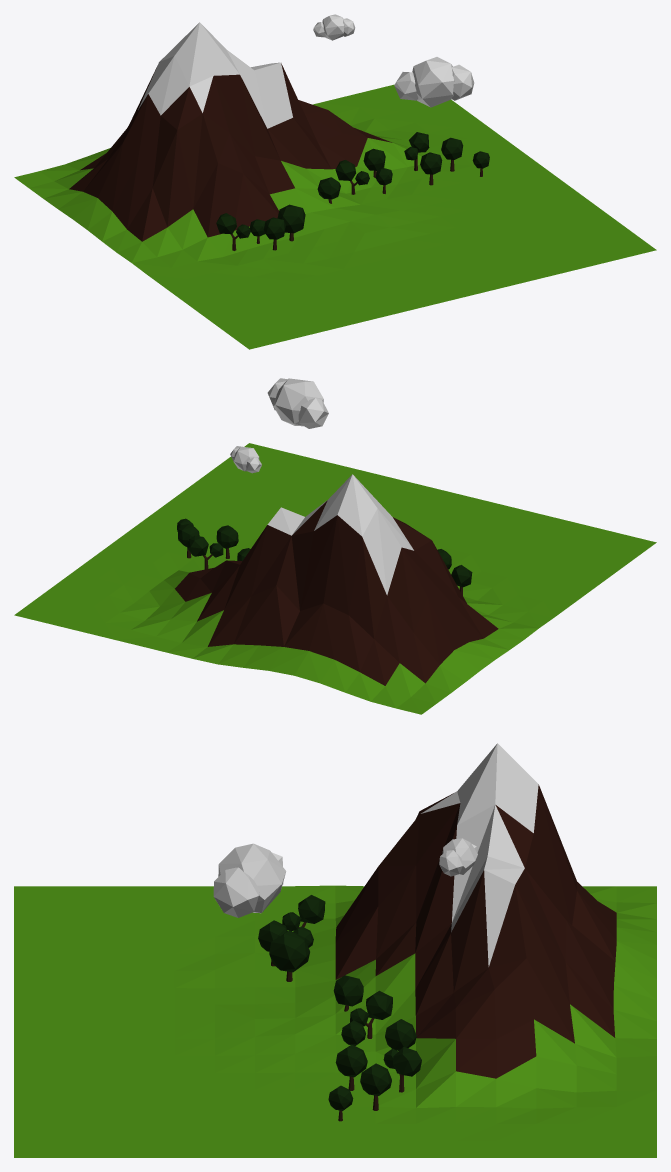
File: mountain_tutorial.obj
3 renders of one model, top to bottom at view 1: azimuth 30°, elevation 25°; view 2: azimuth 150°, elevation 25°; view 3: azimuth 270°, elevation 25°, orthographic. The views are drawn at different scales.
Parts seen in each view (by area): view 1: Plane_Plane.001, Icosphere.001_Icosphere.003, Icosphere.009_Icosphere.011, Icosphere.003_Icosphere.005, Cylinder.002_Cylinder.004, Cylinder.001_Cylinder.003, Cylinder_Cylinder.002; view 2: Plane_Plane.001, Icosphere.001_Icosphere.003, Icosphere.009_Icosphere.011, Cylinder_Cylinder.002; view 3: Plane_Plane.001, Icosphere.001_Icosphere.003, Icosphere.003_Icosphere.005, Icosphere.009_Icosphere.011, Cylinder.001_Cylinder.003, Cylinder.002_Cylinder.004, Cylinder_Cylinder.002, Icosphere, Icosphere.004_Icosphere.006, Icosphere.007_Icosphere.009, Icosphere.002_Icosphere.004.
Part boxes in pixels (x1,y1,x2,y2): Plane_Plane.001: (14, 22, 656, 349); Icosphere.001_Icosphere.003: (394, 57, 474, 107); Icosphere.009_Icosphere.011: (313, 14, 355, 40); Icosphere.003_Icosphere.005: (277, 204, 305, 241); Cylinder.002_Cylinder.004: (216, 213, 250, 250); Cylinder.001_Cylinder.003: (335, 160, 369, 194); Cylinder_Cylinder.002: (404, 132, 429, 170); Plane_Plane.001: (14, 443, 656, 714); Icosphere.001_Icosphere.003: (267, 378, 328, 428); Icosphere.009_Icosphere.011: (230, 446, 261, 473); Cylinder_Cylinder.002: (187, 535, 223, 569); Plane_Plane.001: (14, 743, 656, 1157); Icosphere.001_Icosphere.003: (213, 843, 286, 917); Icosphere.003_Icosphere.005: (269, 930, 309, 981); Icosphere.009_Icosphere.011: (439, 838, 477, 876); Cylinder.001_Cylinder.003: (350, 990, 392, 1038); Cylinder.002_Cylinder.004: (282, 895, 325, 931); Cylinder_Cylinder.002: (383, 1047, 421, 1092); Icosphere: (360, 1063, 391, 1110); Icosphere.004_Icosphere.006: (335, 1044, 367, 1090); Icosphere.007_Icosphere.009: (333, 975, 363, 1011); Icosphere.002_Icosphere.004: (385, 1019, 416, 1050).
Bounding box in the file's own units: 12.95 × 5.27 × 12.95.
